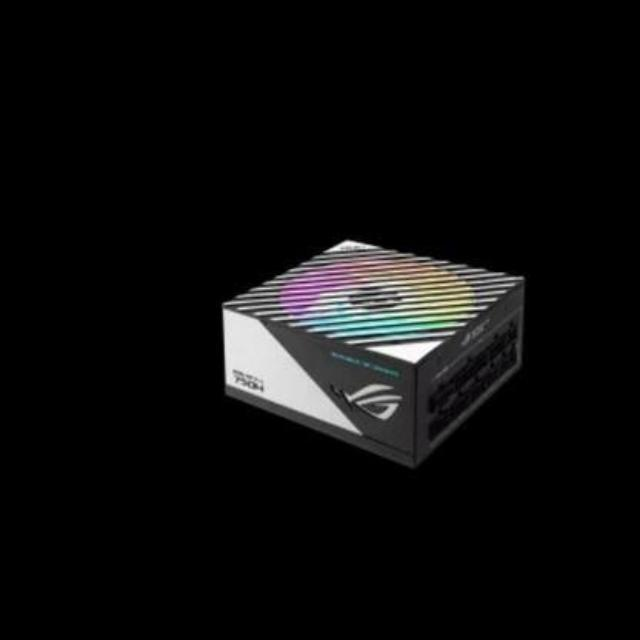PSU: (204, 228, 534, 490)
